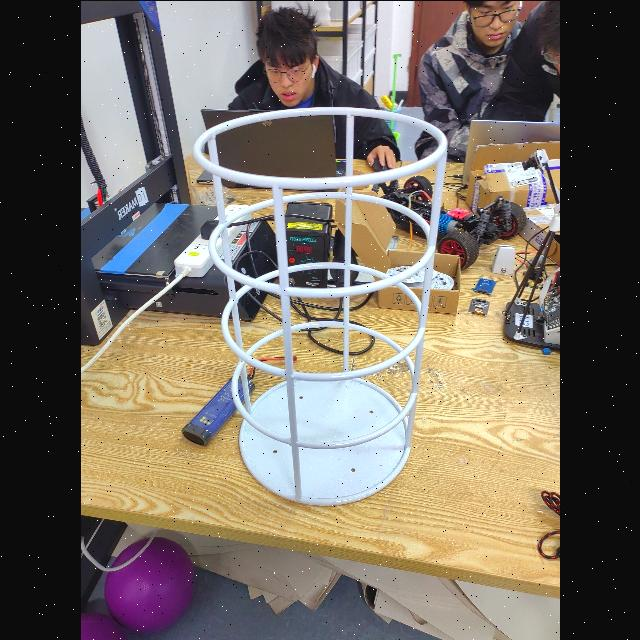S: (191, 102, 454, 510)
